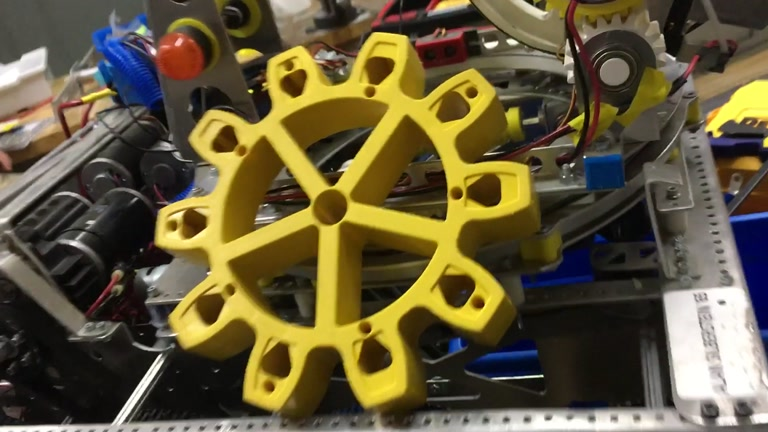gear: (154, 29, 543, 418)
